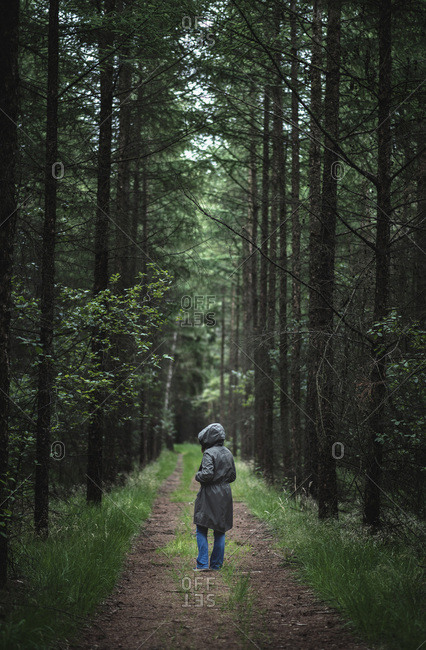Person: (183, 421, 246, 574)
